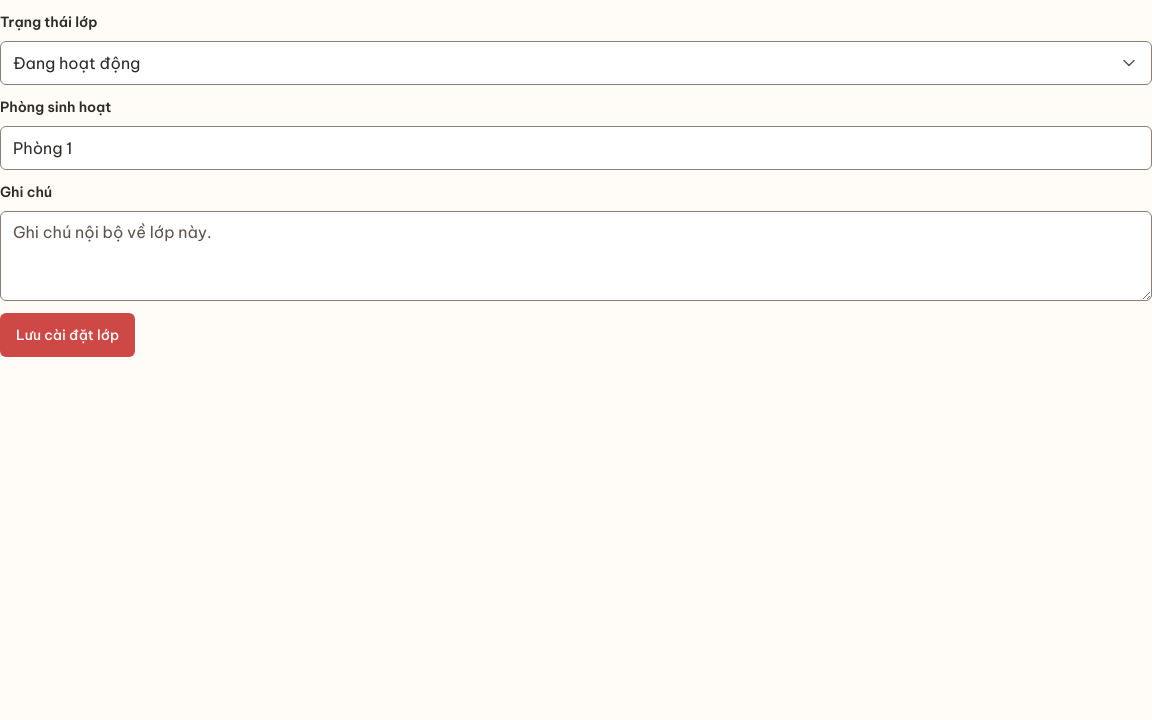
Scenario: hộp xác nhận chỉ mở khi thật cần (BR-M02-N11) › hộp thoại nêu ĐÚNG trạng thái sắp đặt, không phải trạng thái hiện tại
The width and height of the screenshot is (1152, 720).
Select "Tạm ngưng" in the dropdown labelled "Trạng thái lớp": point(49, 22) [0,13,98,31]
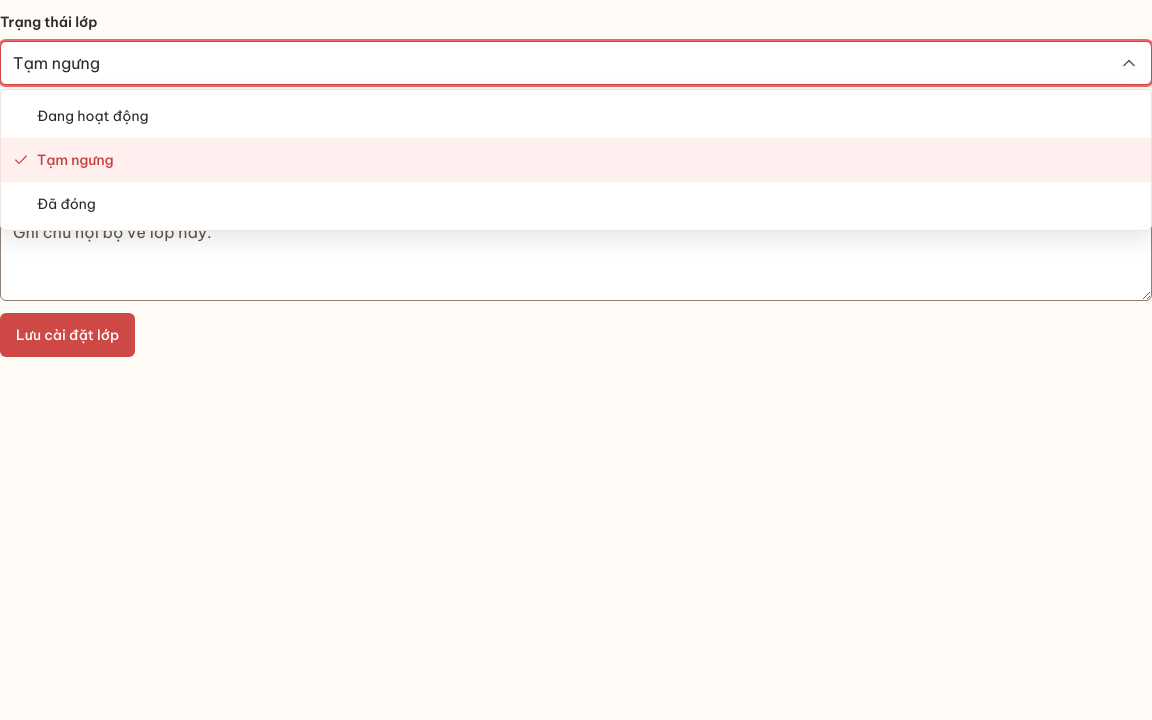
Click the button "Lưu cài đặt lớp": point(68, 335) [0,313,135,357]
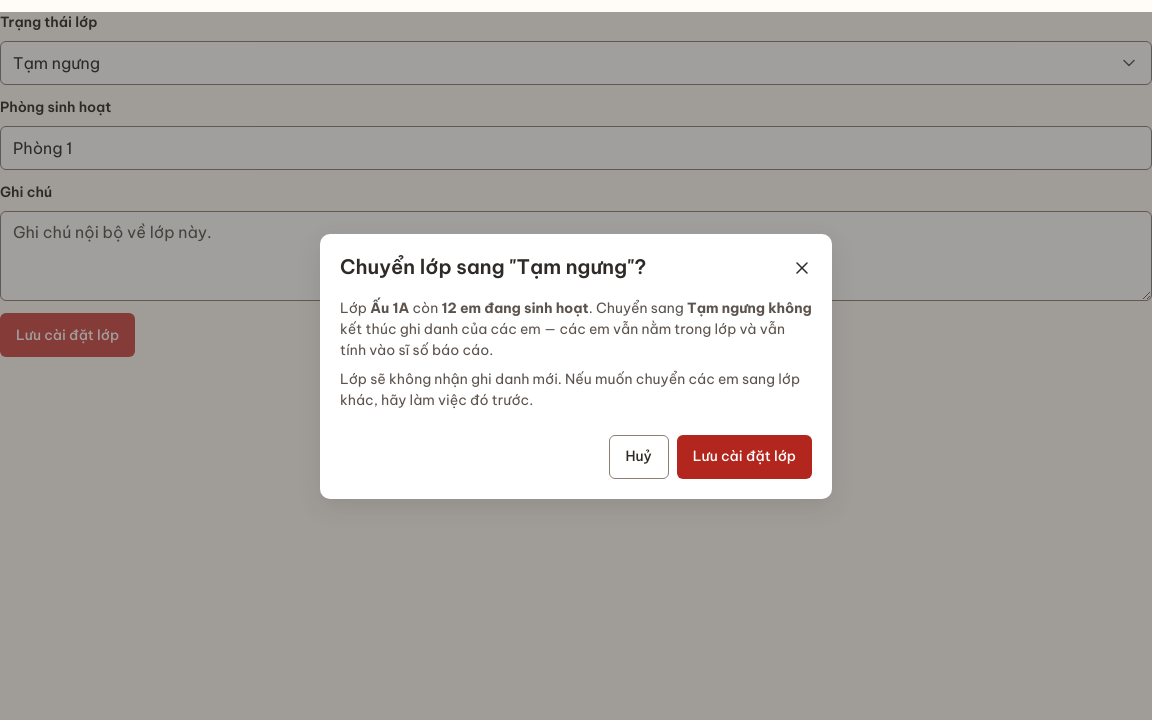
Result: the dialog shows "Tạm ngưng" at [687,298,765,316]
